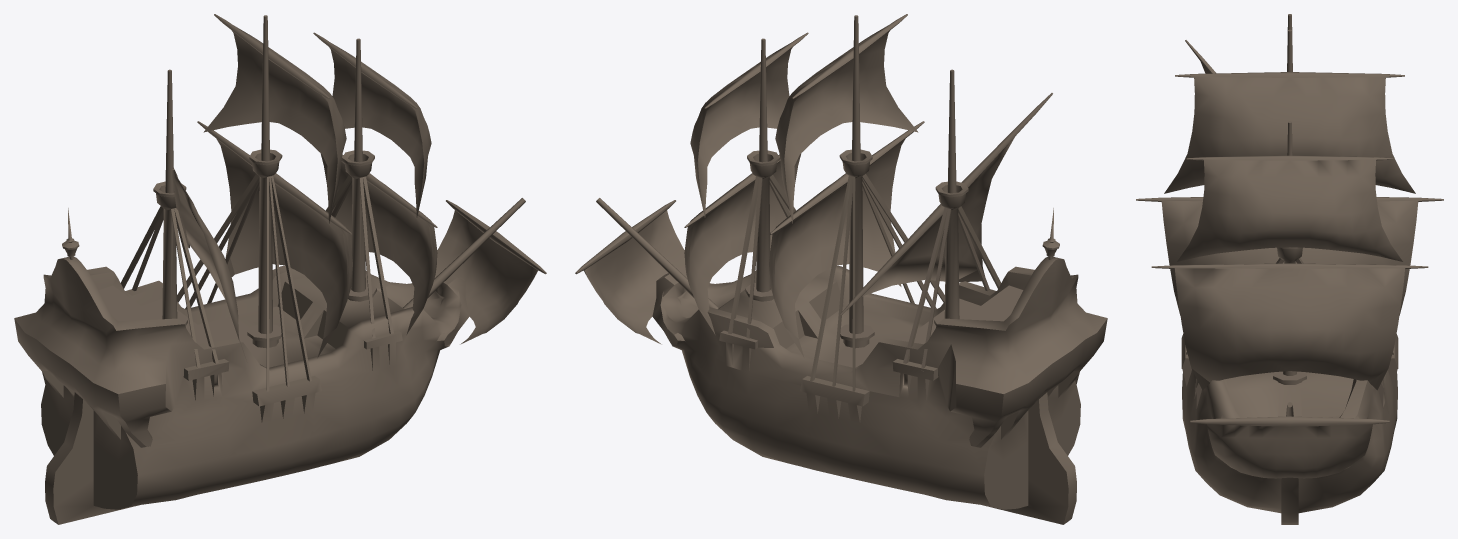
The model's file is ship.obj.
3 renders of one model, left to right at view 1: azimuth 30°, elevation 25°; view 2: azimuth 150°, elevation 25°; view 3: azimuth 270°, elevation 25°, orthographic.
Visible parts, largest first — view 1: galleone; view 2: galleone; view 3: galleone.
Part boxes in pixels (x1=…): galleone: x1=14, y1=14, x2=546, y2=524; galleone: x1=575, y1=14, x2=1107, y2=524; galleone: x1=1136, y1=14, x2=1443, y2=524.
Size of the model in its own units: 80.69 by 73.54 by 45.
